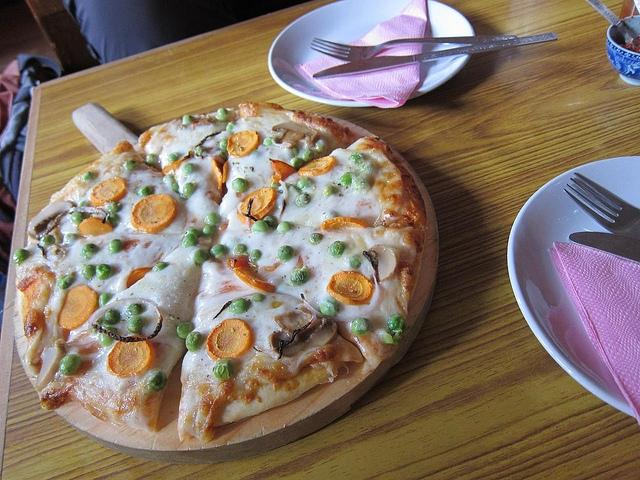carrot: (106, 335, 156, 378), (206, 318, 252, 360), (130, 194, 178, 234), (226, 255, 276, 292), (58, 285, 98, 330), (326, 270, 374, 306), (236, 186, 277, 224), (22, 276, 52, 324), (90, 176, 127, 206), (227, 130, 260, 158), (298, 156, 337, 176), (270, 158, 298, 185), (320, 216, 370, 230), (78, 218, 114, 236), (210, 155, 228, 191), (161, 157, 190, 176)
mushroom: (268, 306, 338, 358), (27, 200, 106, 244), (35, 338, 67, 392), (363, 244, 400, 282), (271, 120, 319, 148), (194, 132, 222, 148)
pea: (58, 354, 82, 375), (146, 370, 168, 392), (213, 358, 235, 378), (352, 173, 376, 191), (351, 317, 373, 336), (319, 296, 339, 316), (311, 140, 330, 160), (99, 327, 118, 346), (229, 298, 251, 314), (128, 315, 146, 333), (388, 317, 406, 335), (290, 266, 308, 284), (176, 322, 195, 339), (186, 332, 202, 352), (95, 264, 114, 280), (12, 248, 29, 265), (81, 244, 99, 260), (294, 192, 312, 208), (328, 240, 344, 257), (104, 308, 121, 324), (58, 274, 74, 290), (278, 246, 294, 262), (181, 234, 199, 248), (210, 244, 228, 258), (107, 239, 125, 253), (204, 212, 220, 227), (232, 178, 248, 192), (194, 249, 208, 265), (320, 210, 338, 222), (349, 254, 363, 269), (99, 292, 112, 308), (82, 264, 95, 280), (63, 233, 77, 247), (128, 303, 143, 316), (106, 202, 122, 214), (276, 222, 292, 234), (348, 152, 364, 164), (302, 148, 314, 164), (182, 182, 195, 196), (262, 215, 276, 228), (322, 185, 337, 197), (138, 185, 154, 196), (185, 228, 202, 238), (250, 248, 262, 262), (232, 244, 247, 255), (182, 114, 195, 126), (145, 154, 158, 166), (202, 224, 215, 236), (340, 172, 352, 185), (152, 262, 169, 271), (308, 234, 323, 244), (72, 212, 84, 224), (43, 234, 55, 245), (126, 160, 136, 172), (251, 294, 266, 301), (195, 146, 205, 156), (184, 163, 193, 174), (219, 139, 228, 149), (83, 171, 93, 180), (250, 150, 260, 159), (167, 154, 178, 162), (264, 138, 272, 146), (226, 122, 233, 131), (172, 182, 178, 192)
